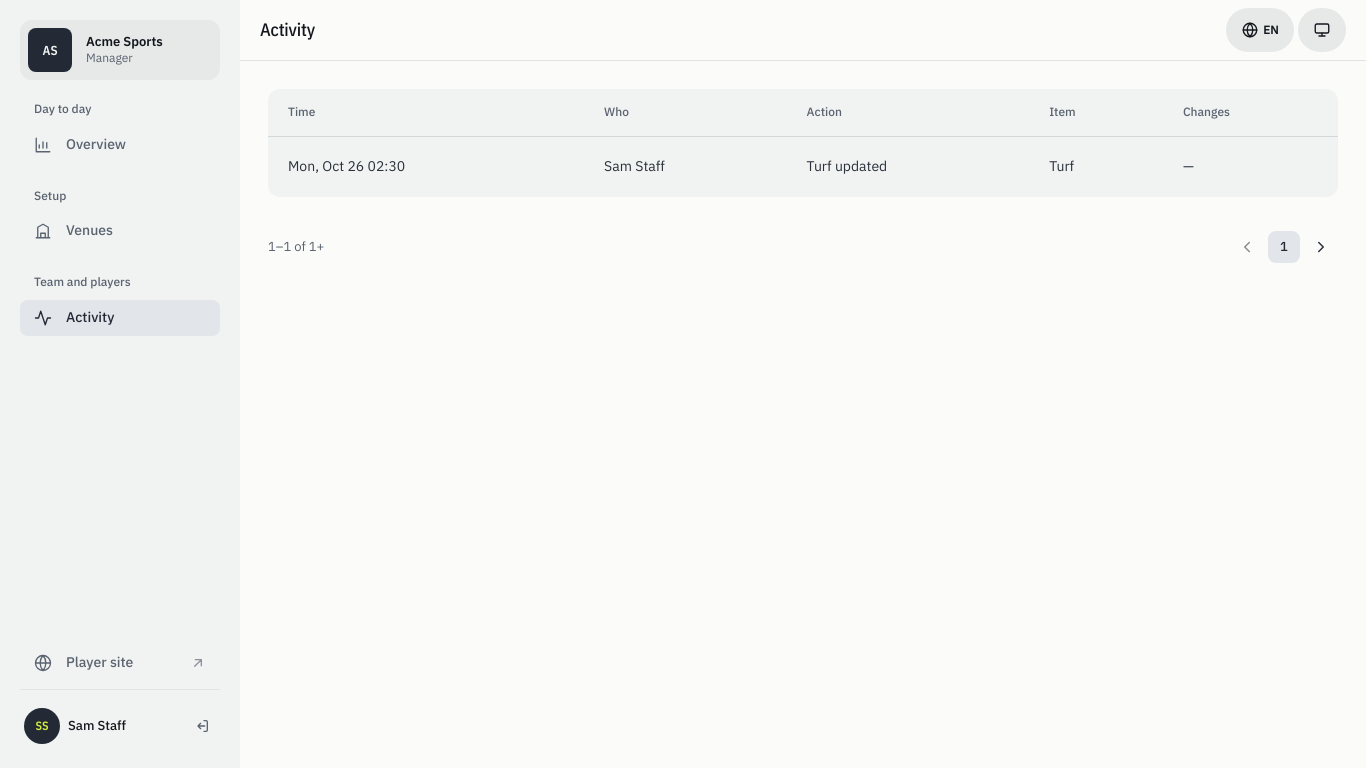
it: ActivityPage › next page fetches the next batch and stops at the end
This screenshot has width=1366, height=768.
Expected: the text "Turf updated" is shown, top-left (787, 137), bottom-right (1029, 197)
Expected: the text "1–1 of 1+" is shown, top-left (268, 236), bottom-right (324, 257)
Click the button named "Next page" at (1321, 247), box top-left (1304, 231), bottom-right (1338, 263)
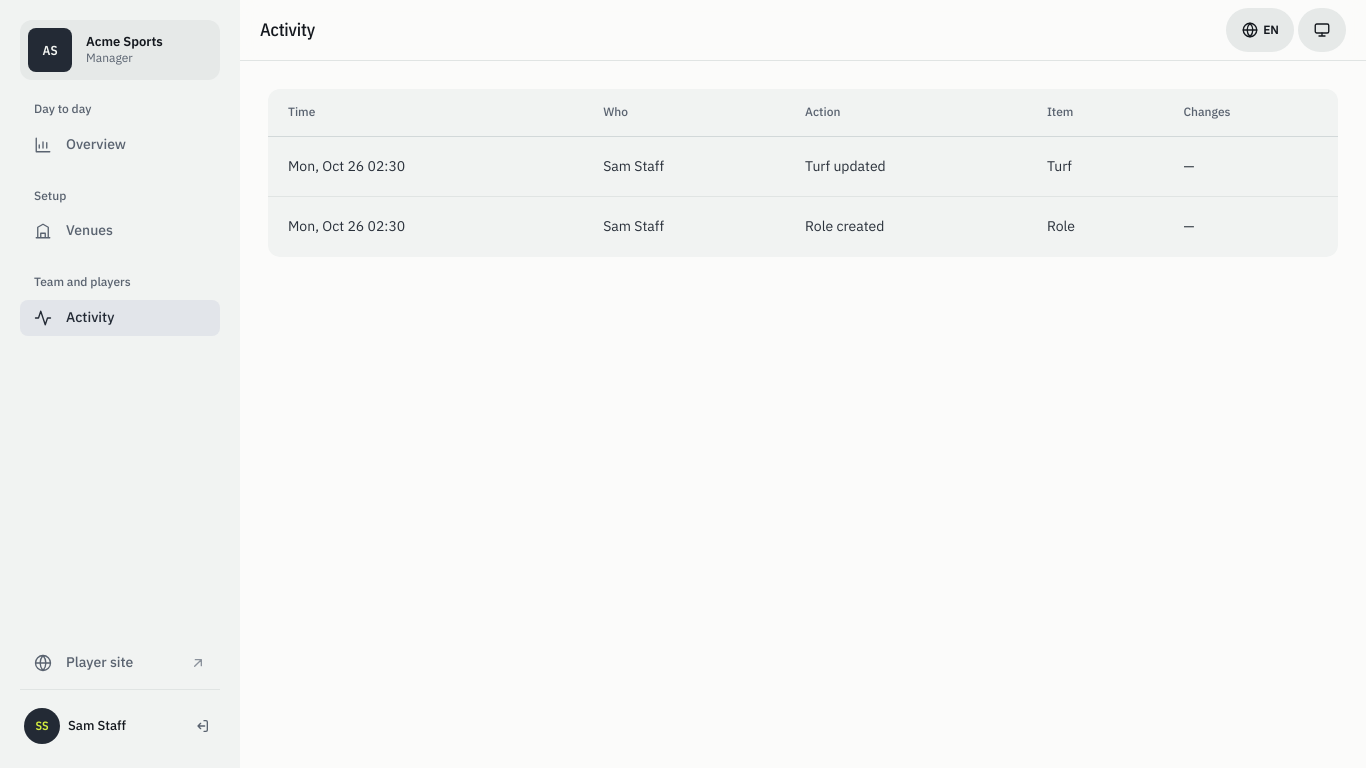
Expected: the text "Turf updated" is shown, top-left (785, 137), bottom-right (1027, 197)
Now the text "Role created" is shown, box top-left (785, 197), bottom-right (1027, 257)
Now the navigation bar "Pages" is gone
